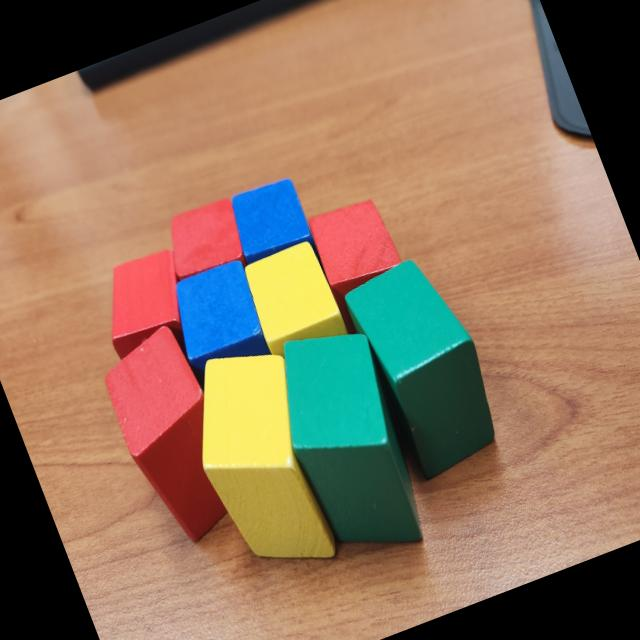blue: (160, 256, 284, 394), (222, 174, 330, 306)
green: (255, 312, 444, 574), (338, 247, 516, 487)
red: (90, 320, 256, 554), (84, 244, 226, 418), (302, 192, 410, 310), (156, 193, 256, 288)
yellow: (168, 333, 360, 592), (238, 237, 354, 367)
